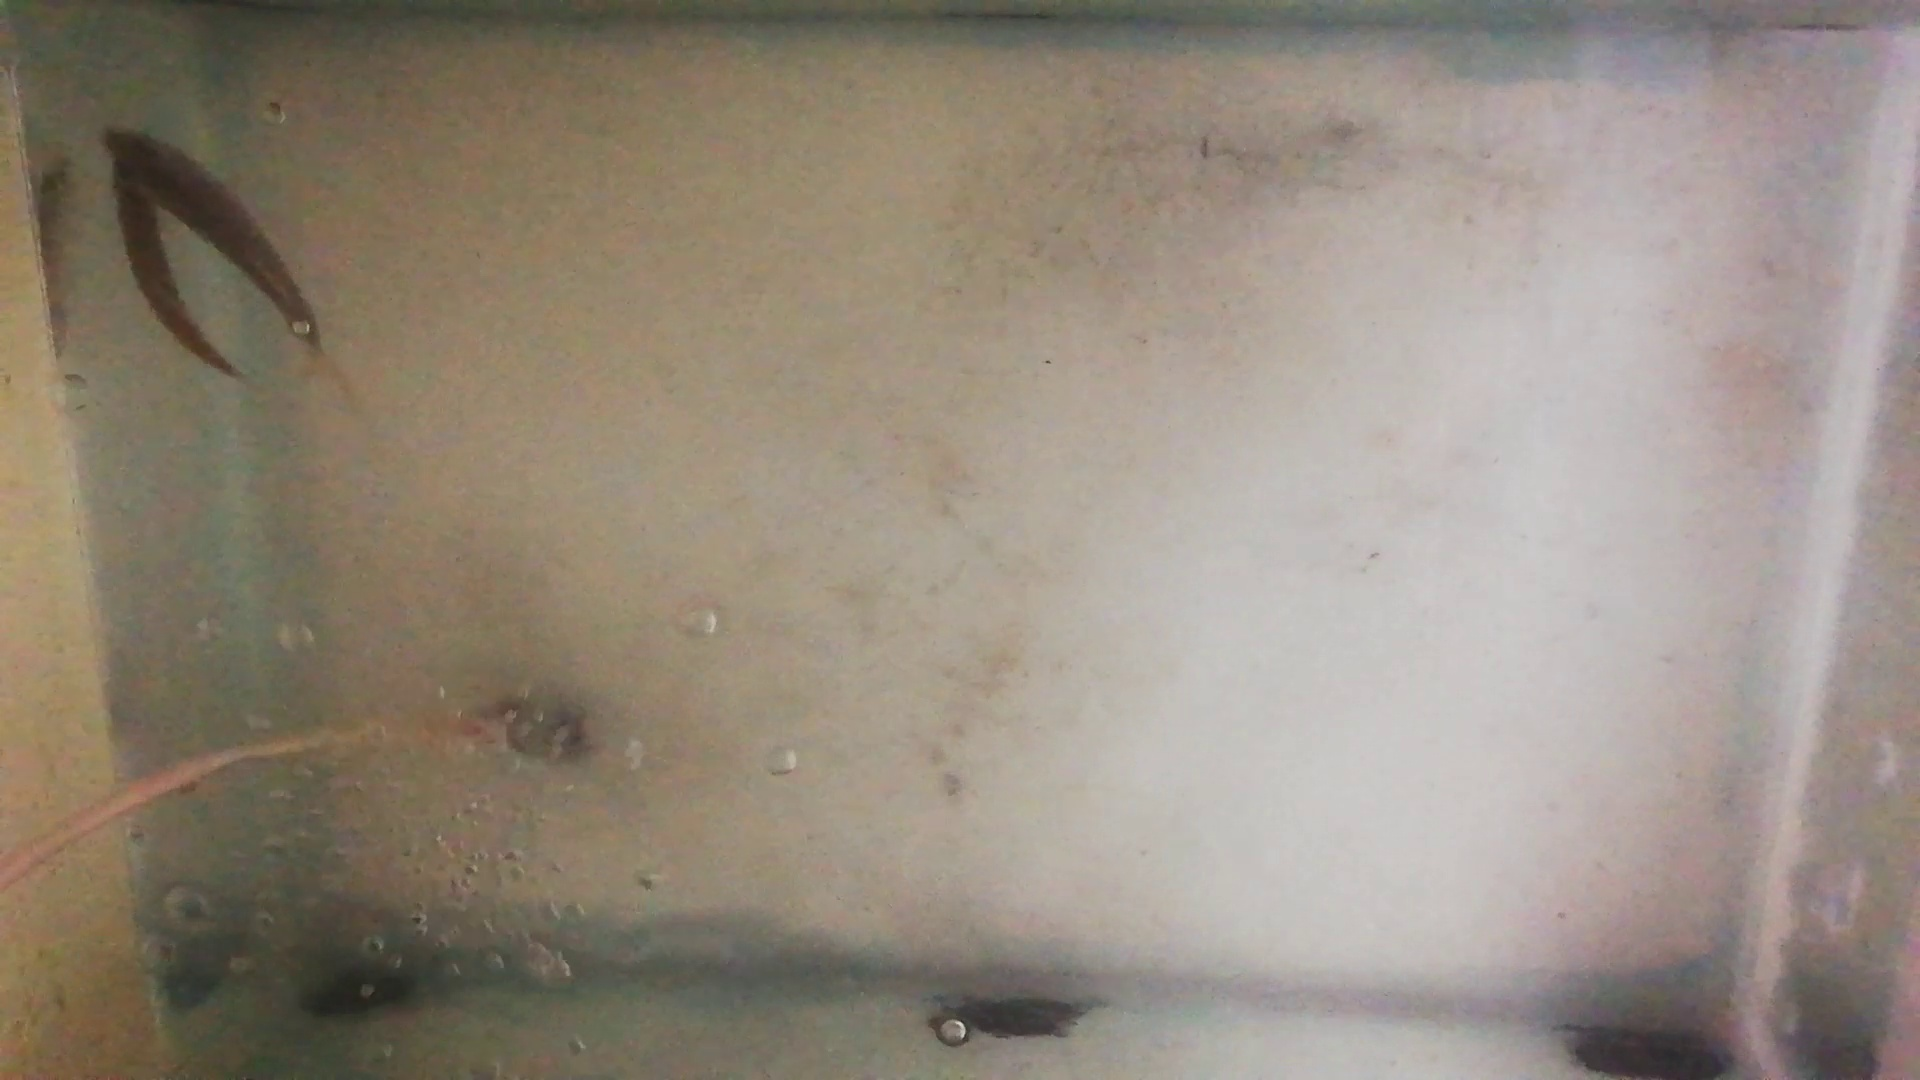fish: (99, 123, 324, 357), (111, 154, 233, 377)
